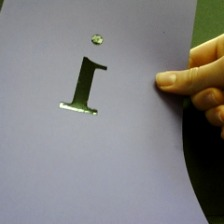violet1: (56, 29, 116, 120)
